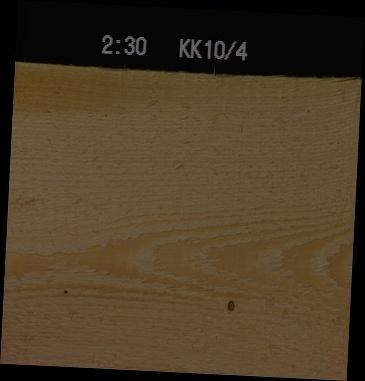dry_knot: (224, 296, 236, 315)
